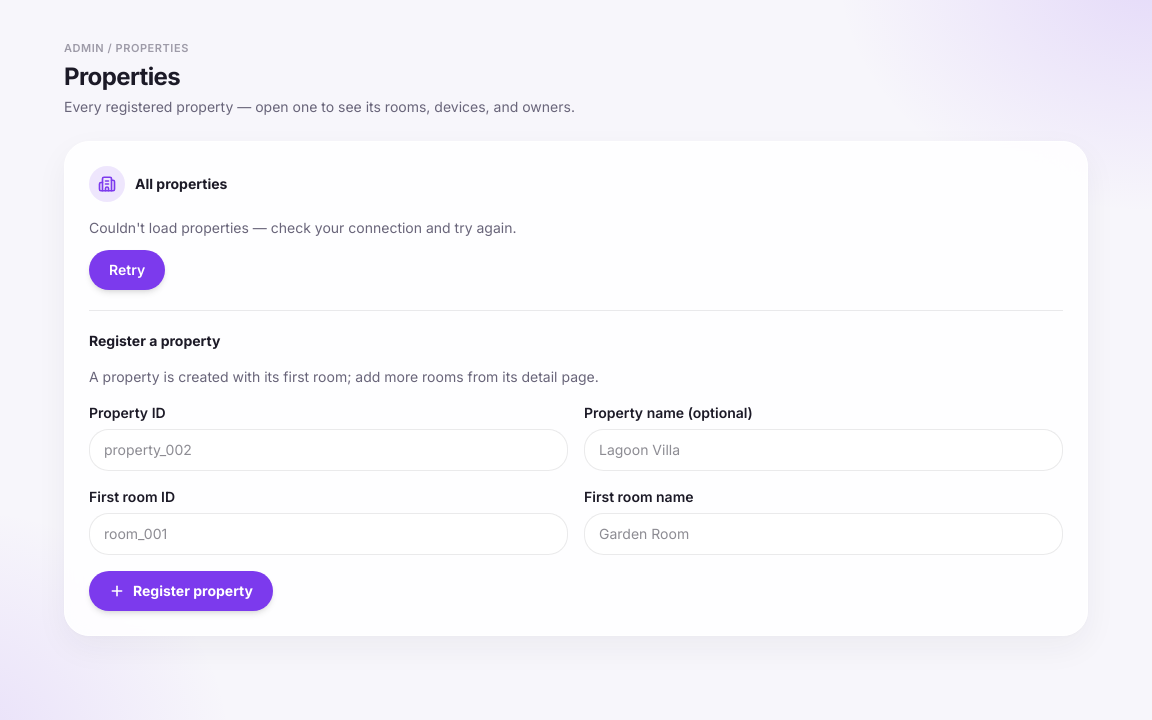
Test: AdminProperties › shows an error with retry instead of silently rendering an empty list
Click the button "Retry" at (127, 270), box [89,250,165,290]
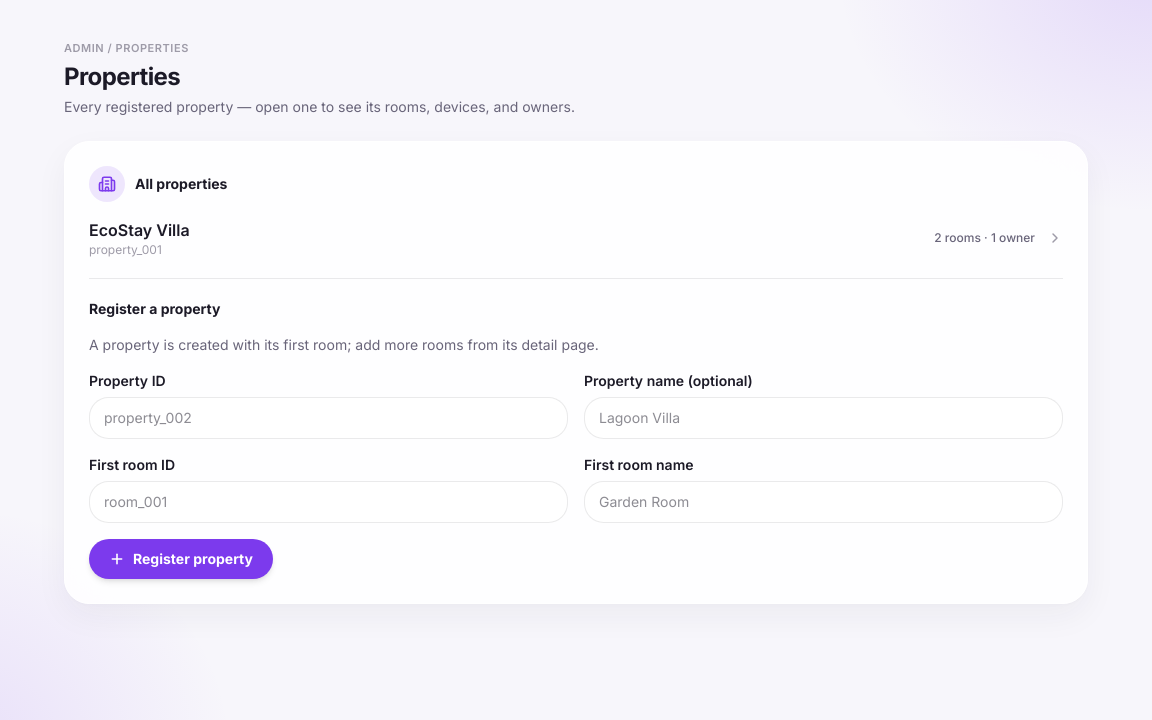
Expected: the text "EcoStay Villa" is shown, [89,218,190,242]
